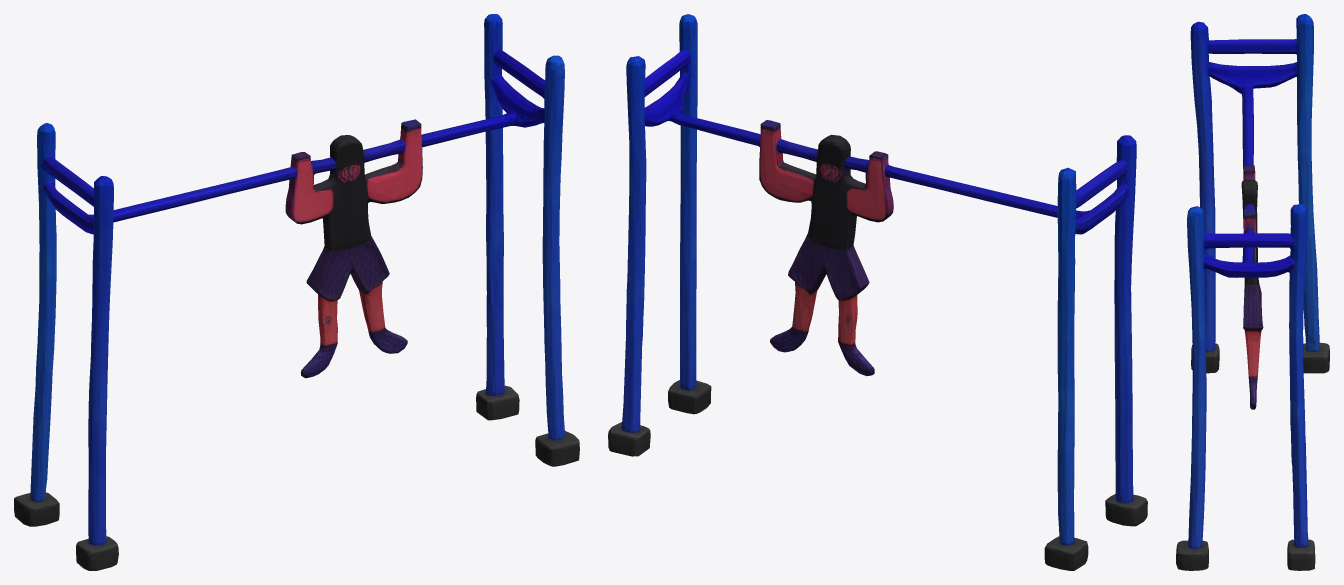
File: icon.glb
The picture shows the model from 3 angles, left to right: view 1: azimuth 30°, elevation 25°; view 2: azimuth 150°, elevation 25°; view 3: azimuth 270°, elevation 25°; orthographic projection. The views are drawn at different scales.
Parts seen in each view (by area): view 1: world; view 2: world; view 3: world.
Part boxes in pixels (bbox=[...]): world: bbox=[14, 14, 579, 570]; world: bbox=[608, 14, 1147, 570]; world: bbox=[1176, 14, 1329, 570].
Size of the model in its own units: 0.9998 by 0.7869 by 0.3071.
1 material, 1 textured.
